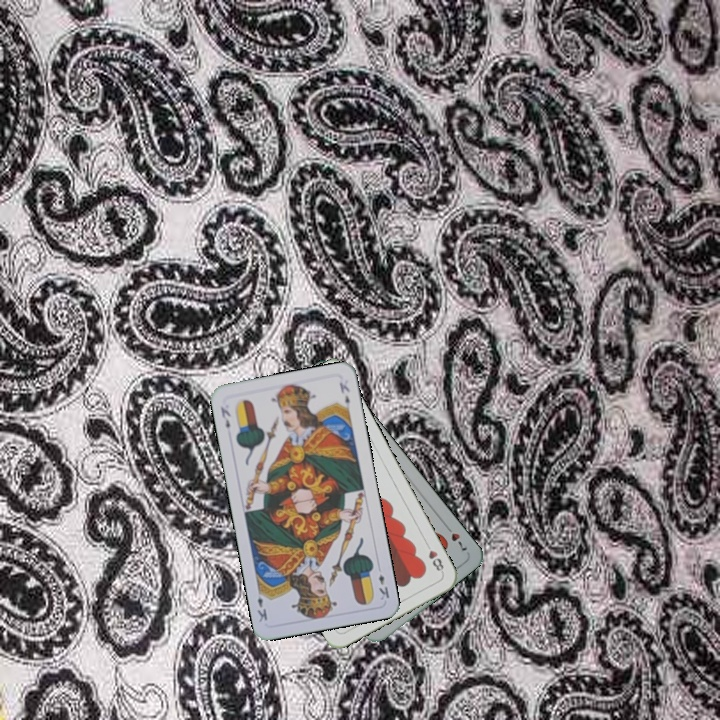EK: (374, 570, 392, 603), (216, 403, 233, 431)
H7: (441, 520, 470, 553)
H8: (421, 538, 446, 576)
